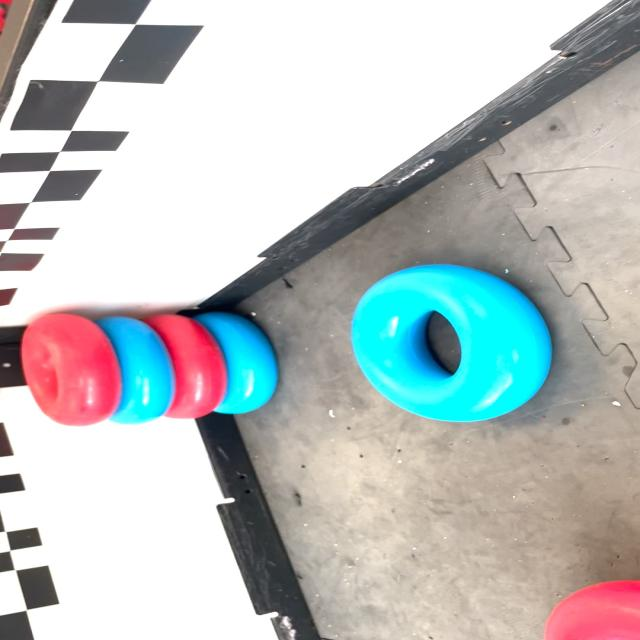Blue-Ring: (351, 265, 551, 421), (193, 311, 278, 414), (96, 316, 176, 424)
Red-Ring: (22, 314, 122, 426), (144, 315, 227, 419)
